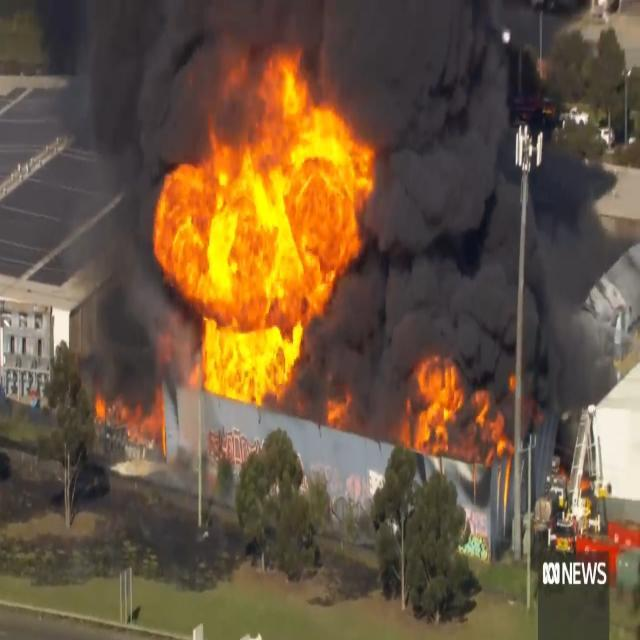fire: (153, 67, 374, 433), (414, 352, 516, 465)
